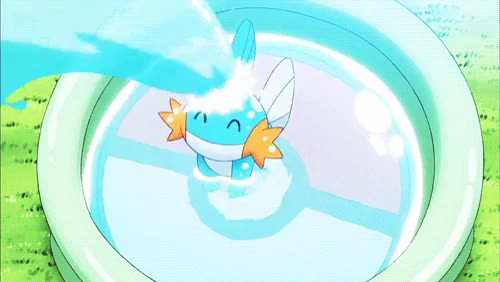mudkip: (158, 13, 300, 185)
